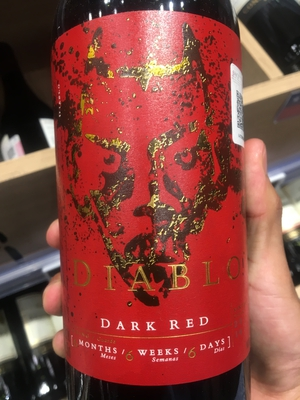diablo dark red: (37, 1, 263, 393)
